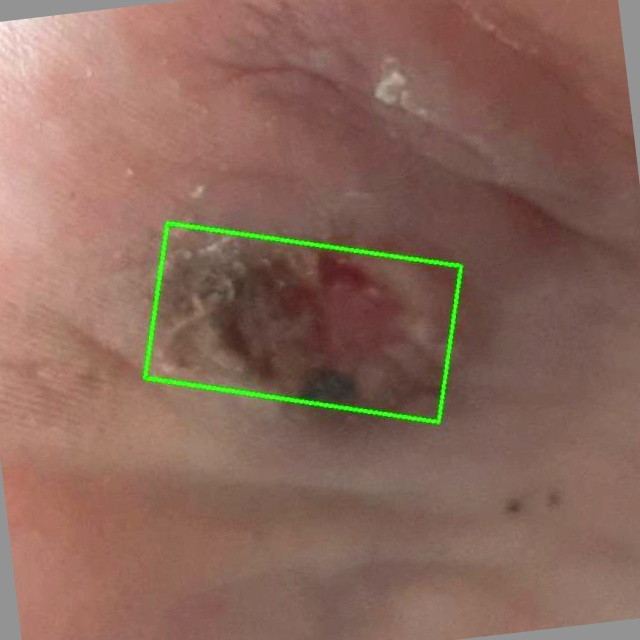Eczema: (145, 223, 461, 422)
